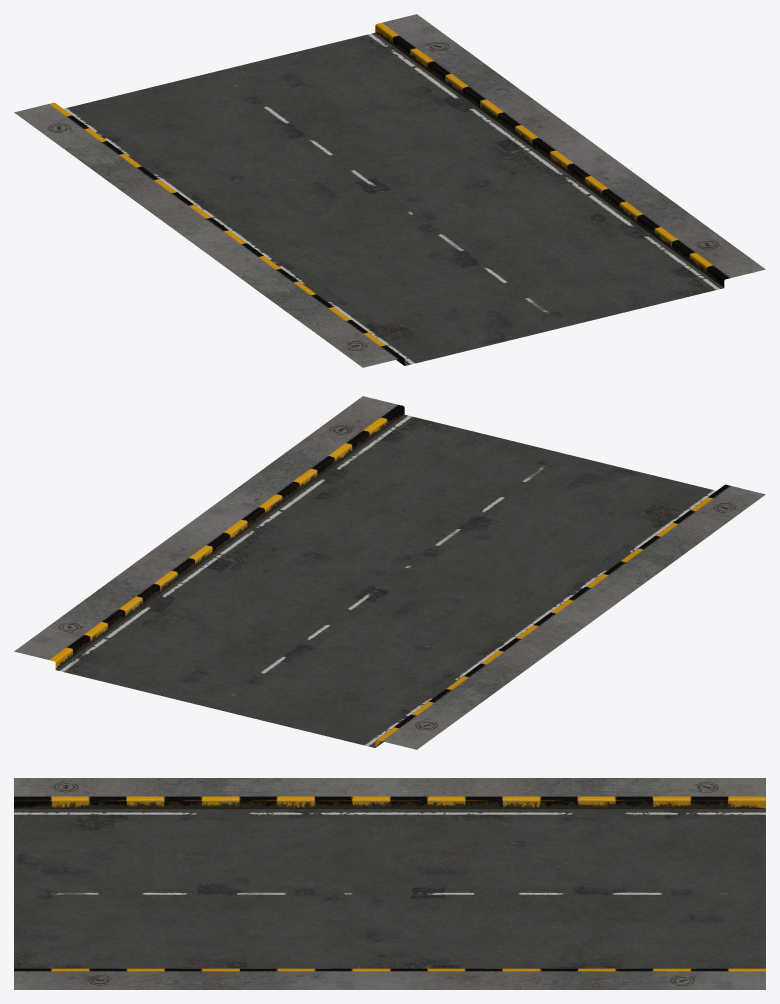
File: road.glb
3 views of the same model, one above another, from view 1: azimuth 30°, elevation 25°; view 2: azimuth 150°, elevation 25°; view 3: azimuth 270°, elevation 25° (orthographic). The views are drawn at different scales.
Visible parts, largest first — view 1: Object_2; view 2: Object_2; view 3: Object_2.
Part boxes in pixels (left/top/right/bottom): Object_2: left=14, top=14, right=765, bottom=367; Object_2: left=14, top=396, right=765, bottom=749; Object_2: left=14, top=778, right=765, bottom=989.
Size of the model in its own units: 1000 by 19.96 by 1500.
Materials: 1 (1 with a texture image).
